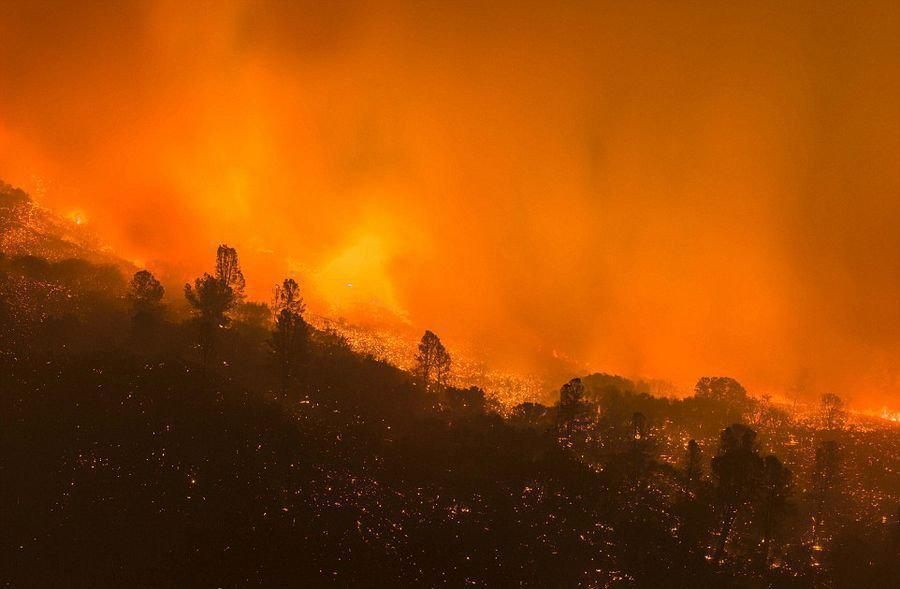fire: (12, 151, 430, 333), (449, 329, 891, 446)
